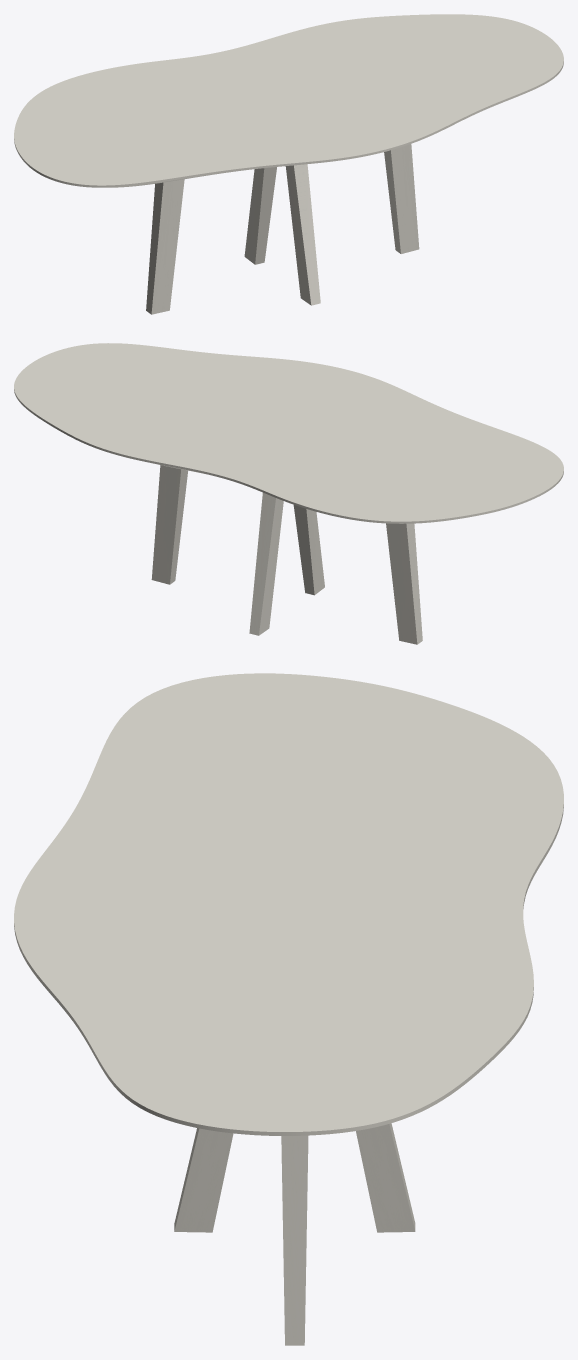
Rendered from pale_toplast_facet_searwalnut.glb.
3 renders of one model, top to bottom at view 1: azimuth 30°, elevation 25°; view 2: azimuth 150°, elevation 25°; view 3: azimuth 270°, elevation 25°, orthographic. The views are drawn at different scales.
Parts seen in each view (by area): view 1: facet_toplast, searwalnut; view 2: facet_toplast, searwalnut; view 3: facet_toplast, searwalnut.
Part boxes in pixels (x1,y1,x2,y2): facet_toplast: [14, 14, 563, 187]; searwalnut: [146, 144, 419, 314]; facet_toplast: [14, 343, 563, 523]; searwalnut: [151, 465, 422, 644]; facet_toplast: [14, 673, 563, 1135]; searwalnut: [174, 1123, 415, 1345].
Size of the model in its own units: 7.5 by 2.5 by 3.8.
1 material, 1 textured.
